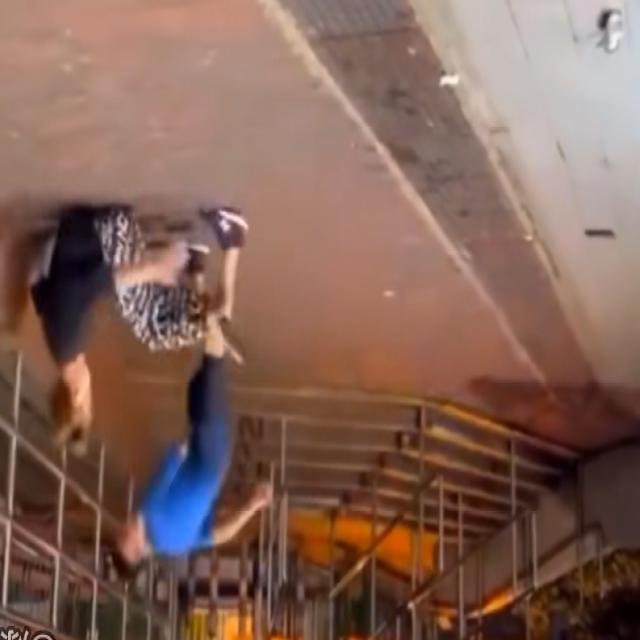nofight: (20, 197, 246, 430), (110, 329, 279, 591)
